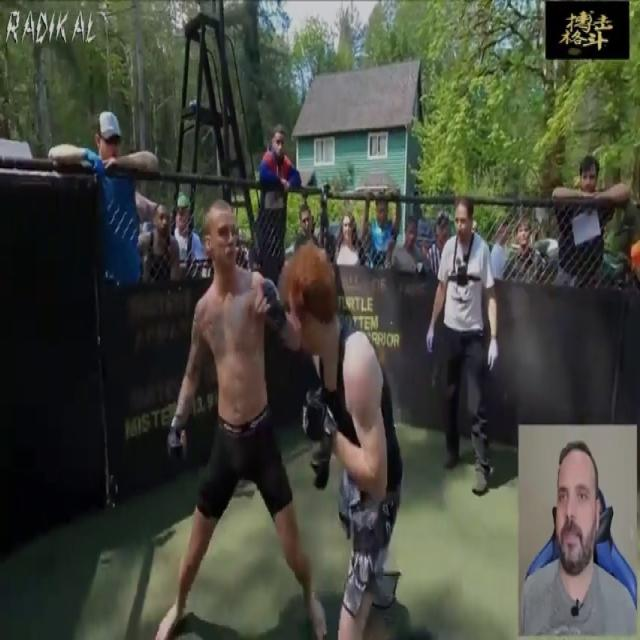fight: (144, 213, 414, 639)
non-fight: (427, 194, 503, 494), (59, 107, 154, 285), (392, 212, 428, 275), (332, 210, 361, 266)
